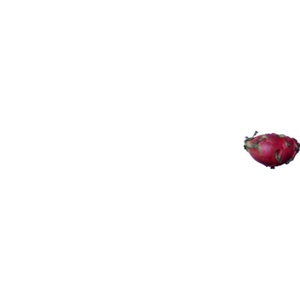pitaia: (244, 132, 300, 170)
